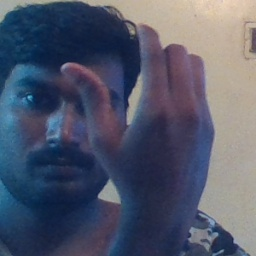U: (60, 20, 217, 191)
